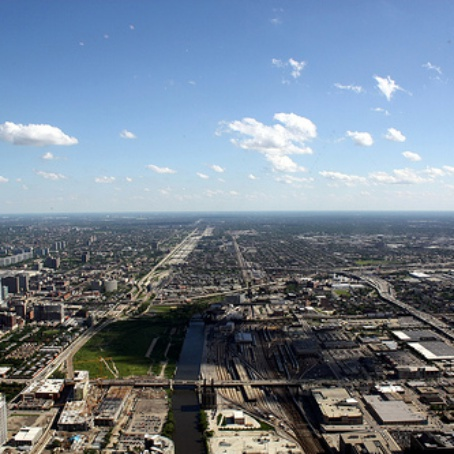river: (166, 315, 211, 454)
sky: (6, 1, 454, 206)
